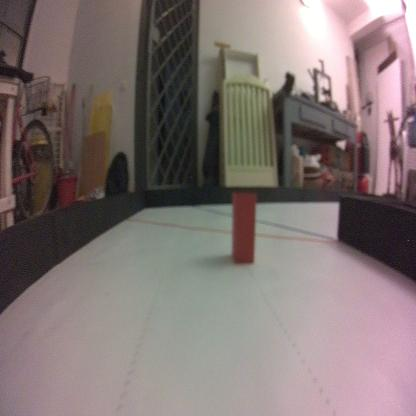red: (231, 191, 257, 268)
